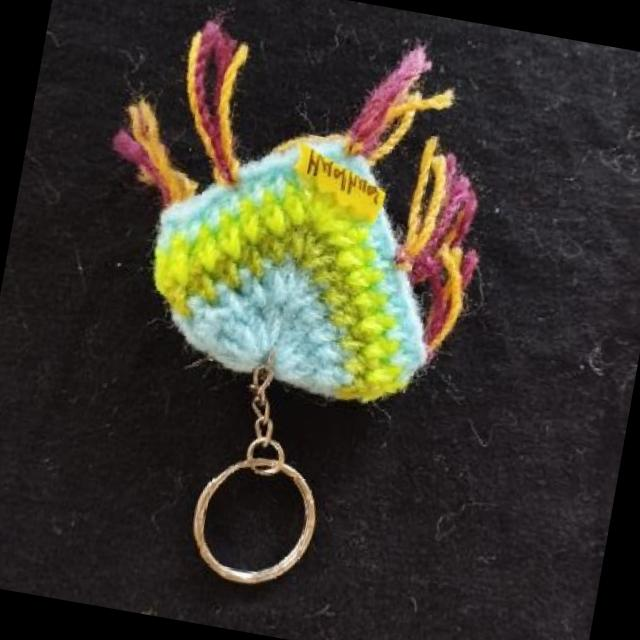Llavero: (72, 0, 514, 422)
